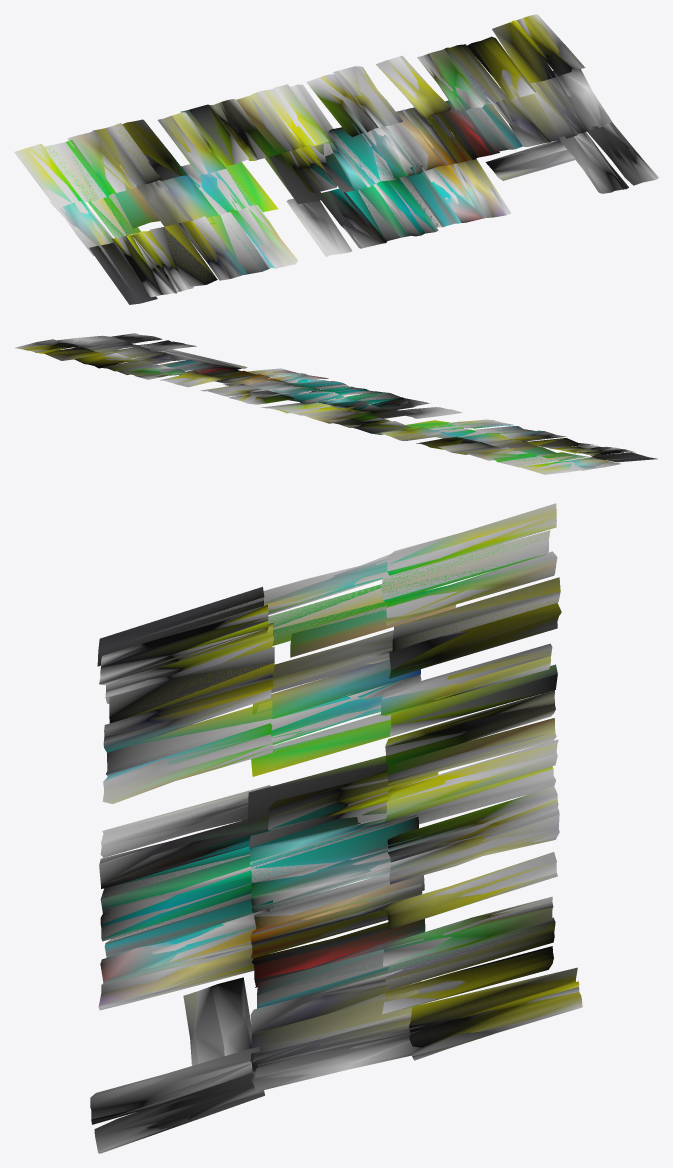
The model's file is SM_MillRoof_NN_07a.FBX.
The picture shows the model from 3 angles, top to bottom: view 1: azimuth 30°, elevation 25°; view 2: azimuth 150°, elevation 25°; view 3: azimuth 270°, elevation 25°; orthographic projection. The views are drawn at different scales.
Visible parts, largest first — view 1: SM_MillRoof_NN_07a_LOD0; view 2: SM_MillRoof_NN_07a_LOD0; view 3: SM_MillRoof_NN_07a_LOD0.
Boxes of the visible parts, bbox=[...] form: SM_MillRoof_NN_07a_LOD0: bbox=[14, 14, 658, 304]; SM_MillRoof_NN_07a_LOD0: bbox=[15, 333, 657, 474]; SM_MillRoof_NN_07a_LOD0: bbox=[90, 503, 582, 1153].
Size of what is drawn, in the model's own units: 2159 by 867 by 293.
